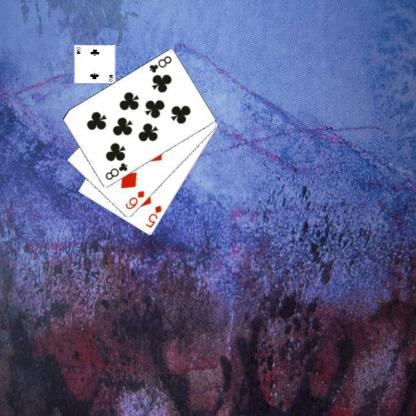5D: (143, 203, 163, 229)
6D: (122, 188, 146, 211)
8C: (102, 160, 129, 182), (147, 53, 173, 74)
